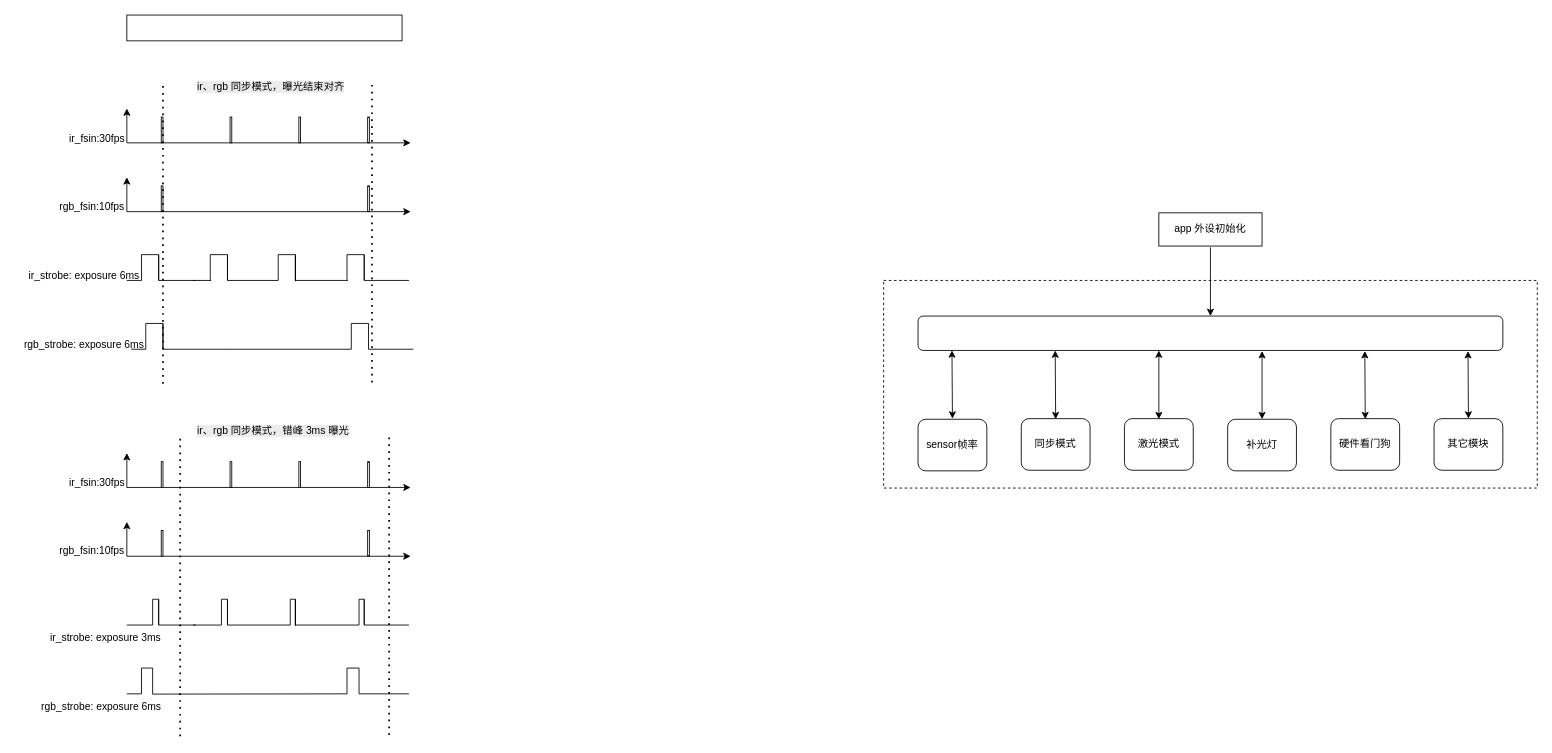
Some shapes in this 1552 by 753 pixel diagram are drawn without their labels. The shapes that lost their labels are listed below. From the top down, each one's box as (x1, y1, x2, y2) in pixels, then its label:
(126, 14, 402, 41): mcu 机内同步
(917, 315, 1503, 350): protocol
